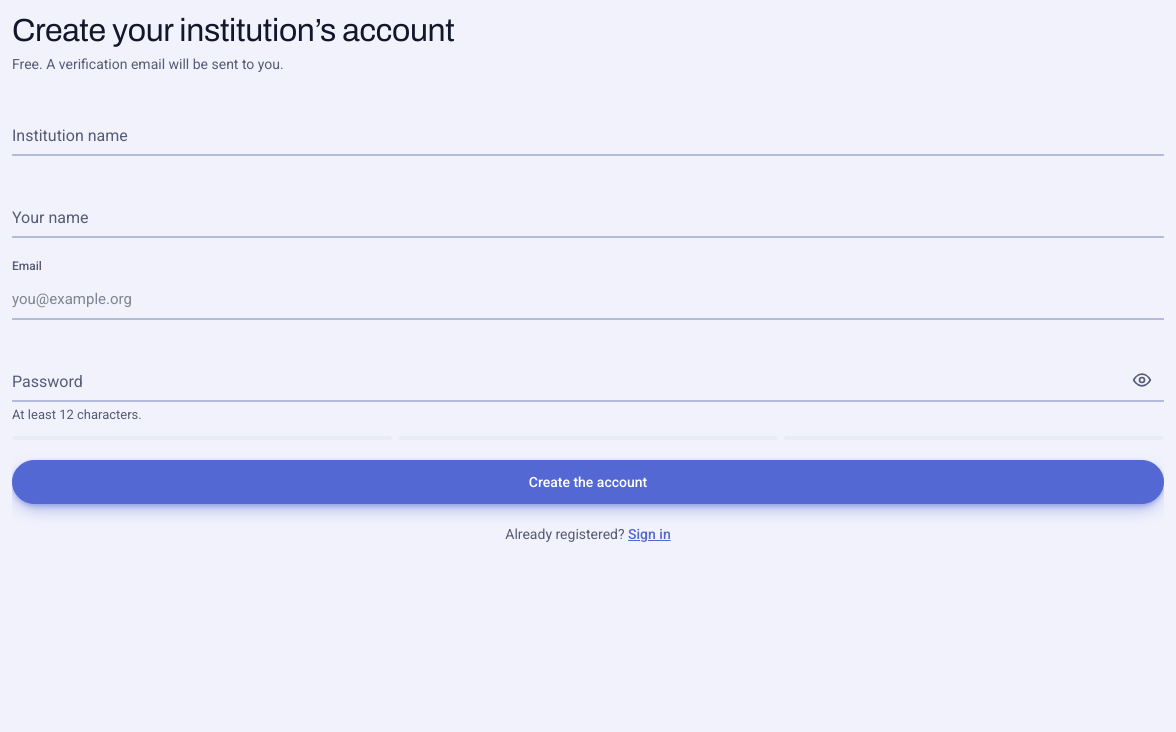
Test: RegisterForm › says a field it does not show is wrong in the alert, and keeps the form usable
Type "Collège" into the field with test id "register-institution-name" at (588, 134), box x1=12 y1=112 x2=1164 y2=156
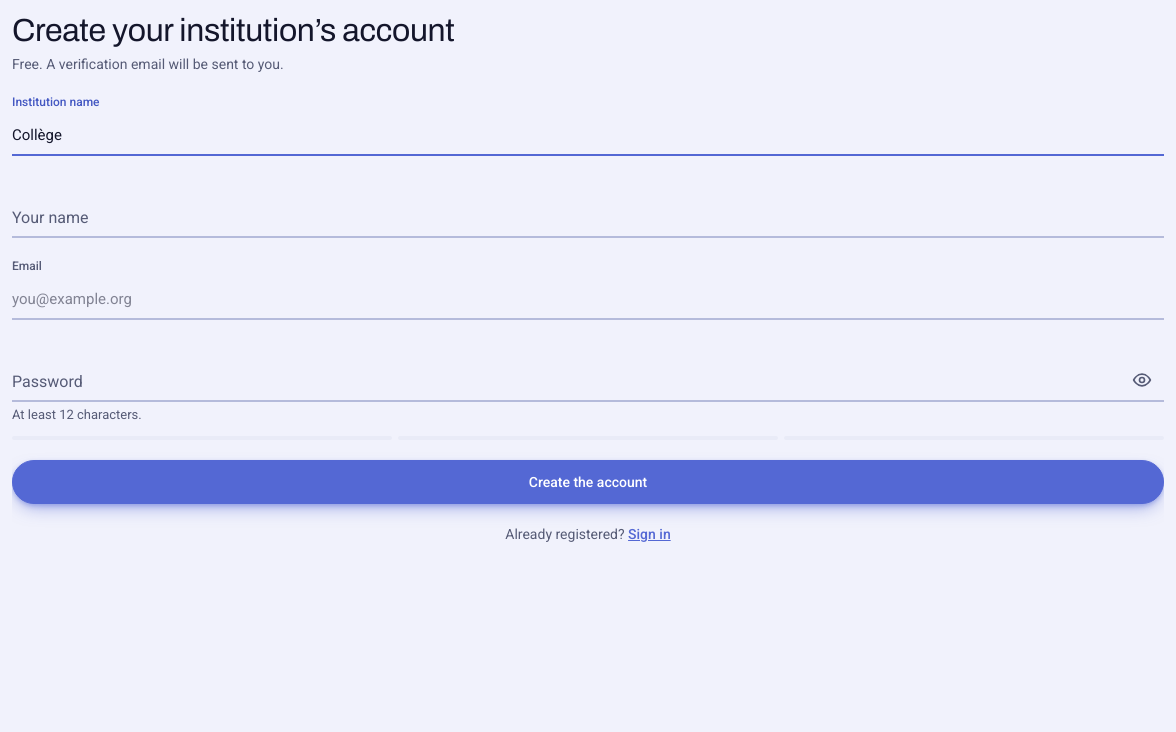
Type "Marie" into the field with test id "register-name" at (588, 216), box x1=12 y1=194 x2=1164 y2=238
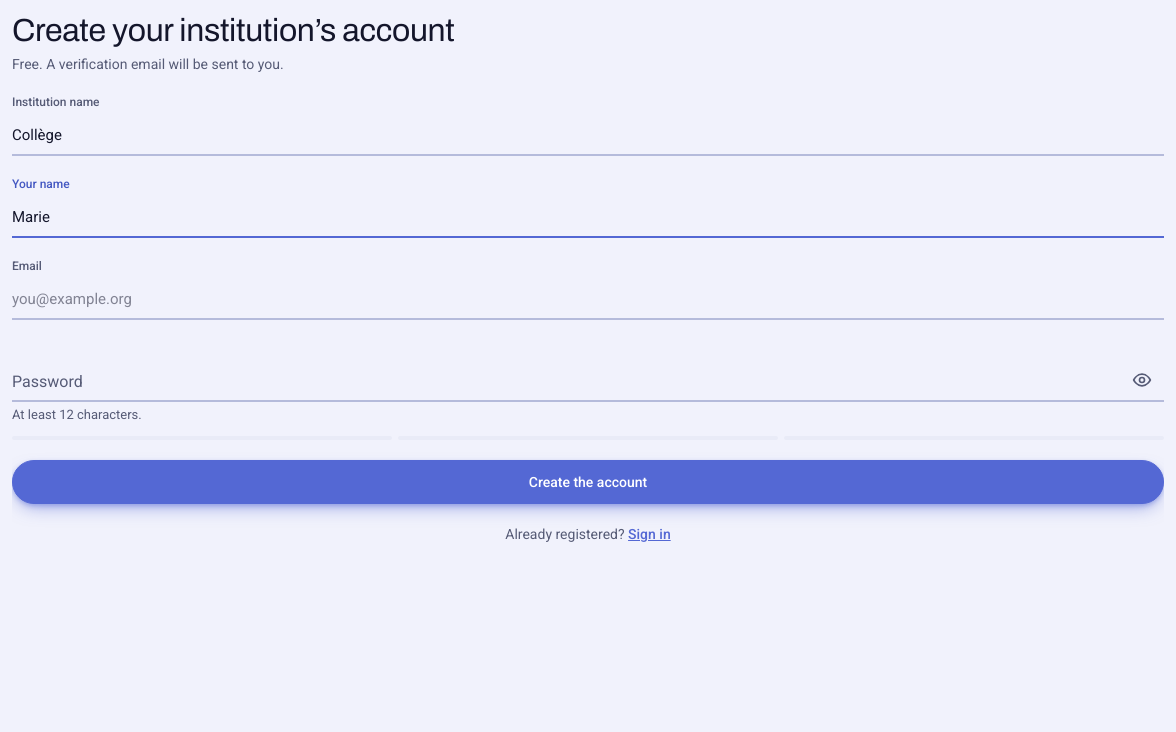
Type "marie@example.test" into the field with test id "register-email" at (588, 298), box x1=12 y1=276 x2=1164 y2=320
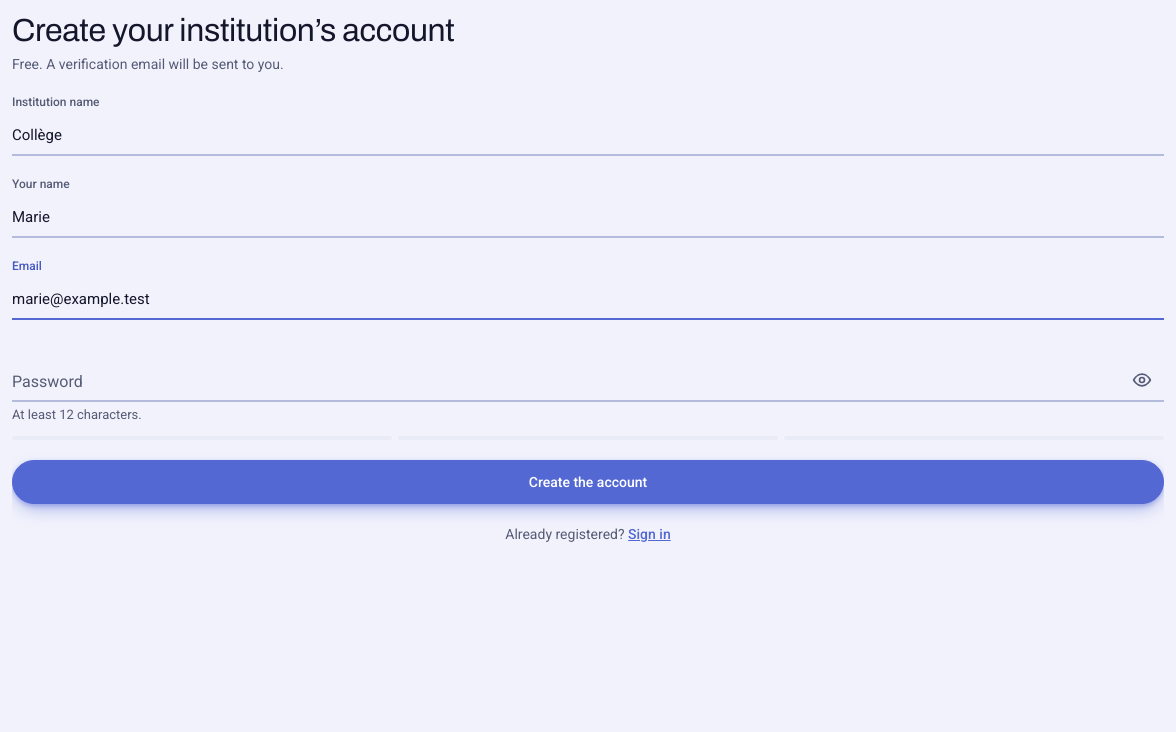
Type "a long enough password" into the password field with test id "register-password" at (588, 380), box x1=12 y1=358 x2=1164 y2=402
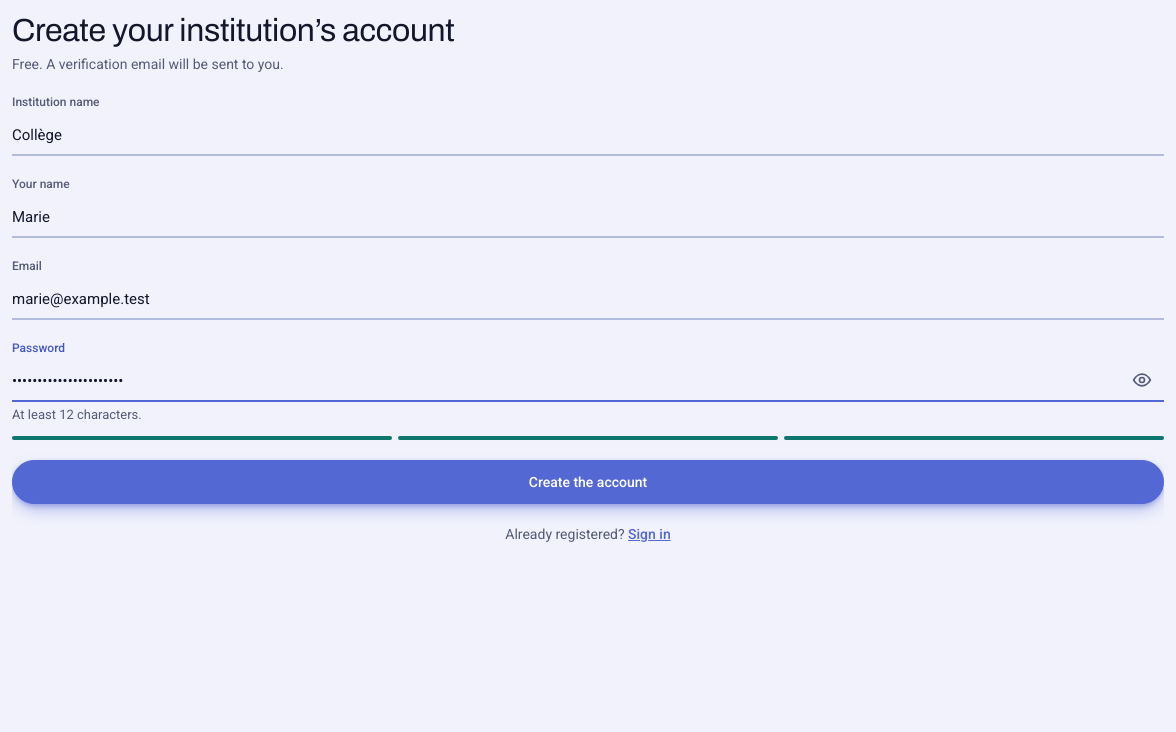
Click the button with test id "register-submit" at (588, 482), box x1=12 y1=460 x2=1164 y2=504
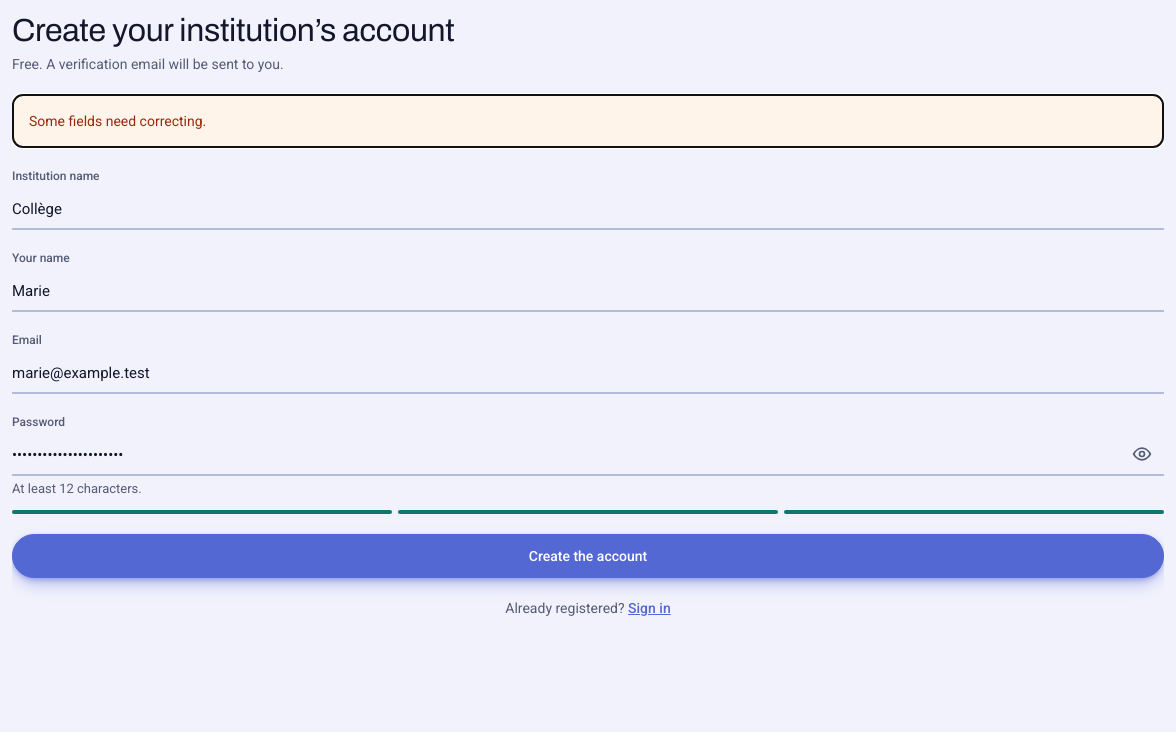
expect the message with test id "form-error" shows "Some fields need correcting": met, box x1=29 y1=113 x2=206 y2=129
